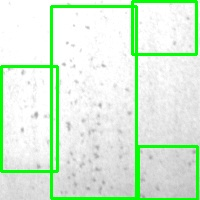pitted_surface: (51, 7, 136, 198), (2, 66, 57, 171), (132, 1, 196, 54), (138, 146, 197, 199)
